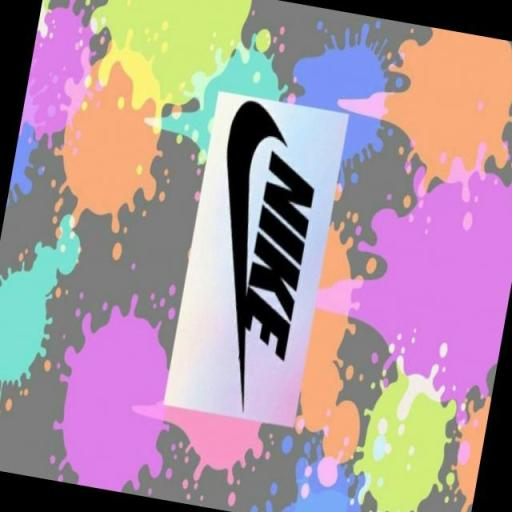Nike: (188, 98, 286, 359), (233, 150, 320, 364)
